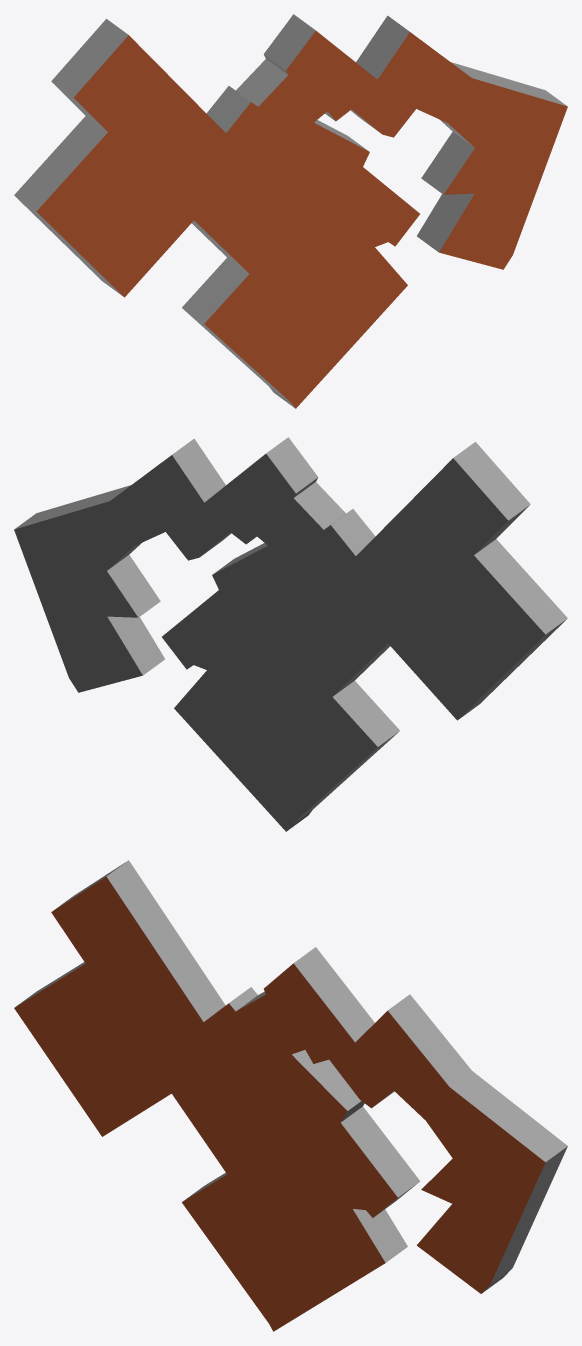
The model's file is construction_5559_assumed_A_Casa_h6m.obj.
The picture shows the model from 3 angles, top to bottom: view 1: azimuth 30°, elevation 25°; view 2: azimuth 150°, elevation 25°; view 3: azimuth 330°, elevation 25°; orthographic projection.
Parts seen in each view (by area): view 1: construction_5559_assumed_A_Casa; view 2: construction_5559_assumed_A_Casa; view 3: construction_5559_assumed_A_Casa.
Part boxes in pixels (x1,y1,x2,y2): construction_5559_assumed_A_Casa: (14,14,567,408); construction_5559_assumed_A_Casa: (14,437,567,831); construction_5559_assumed_A_Casa: (14,860,567,1331).
Size of the model in its own units: 82.22 by 61.28 by 6.
